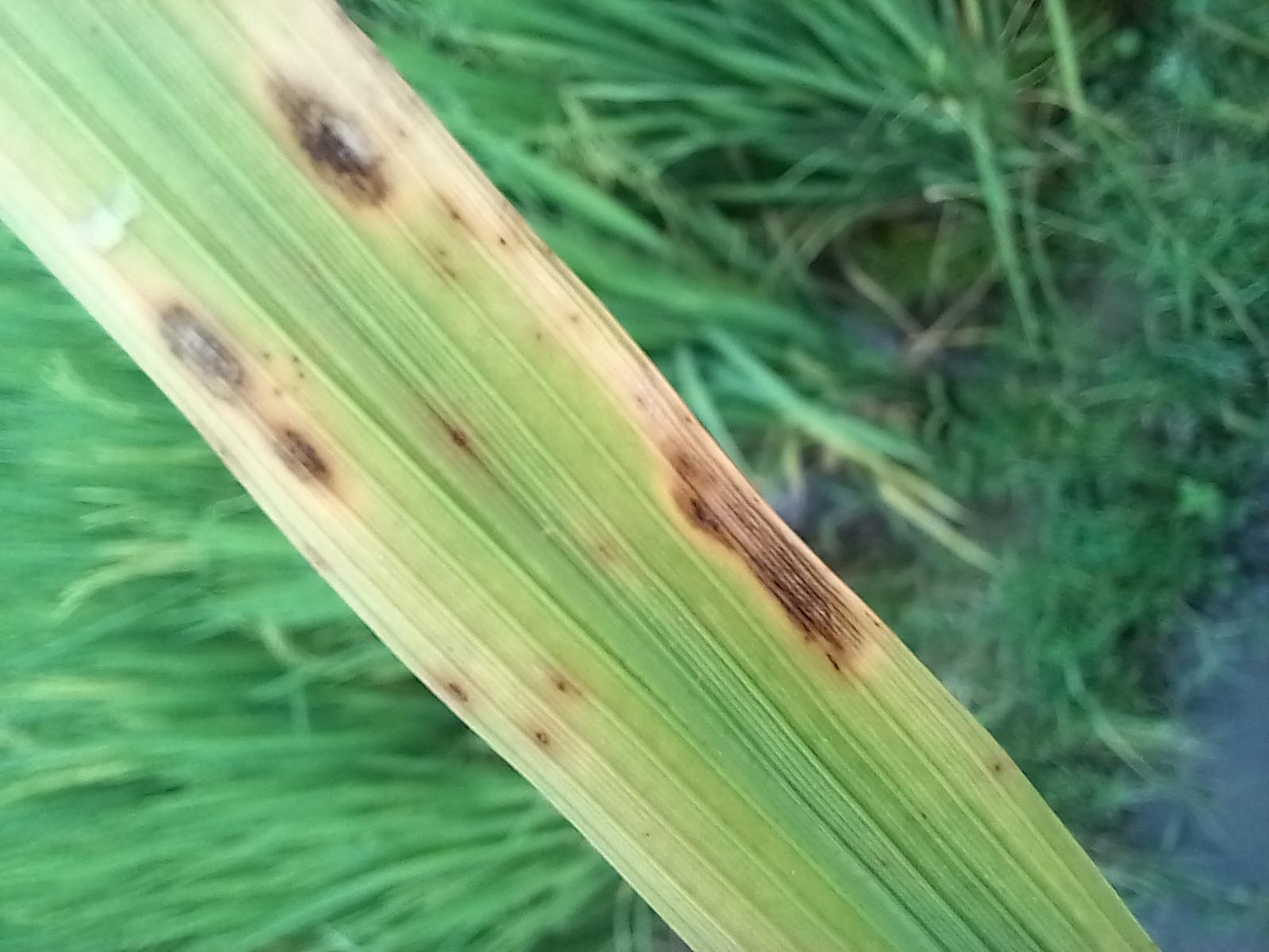LEAF BLAST: (371, 491, 701, 648), (986, 201, 1164, 296), (729, 118, 865, 187)
